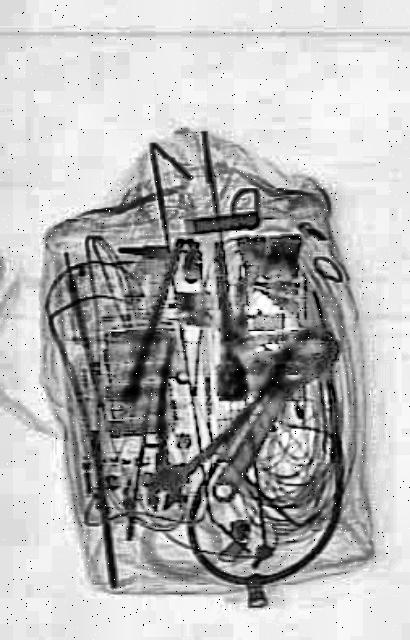Pliers: (114, 322, 260, 544)
Wrench: (199, 301, 344, 521)
